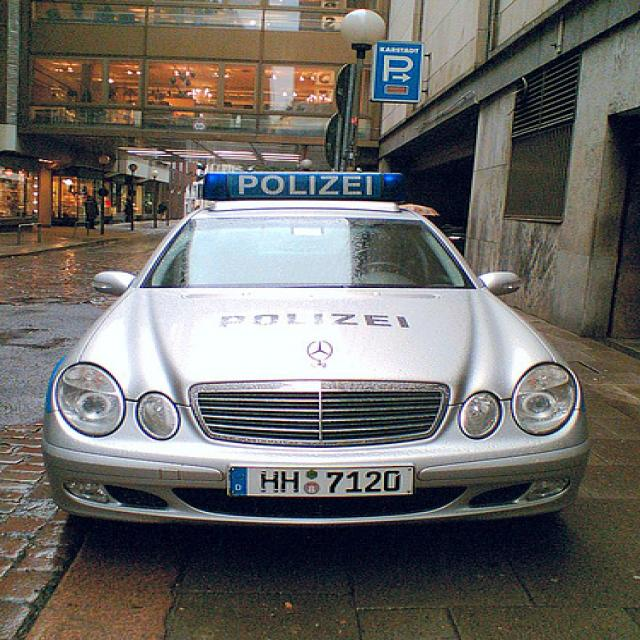Car: (41, 171, 604, 542)
